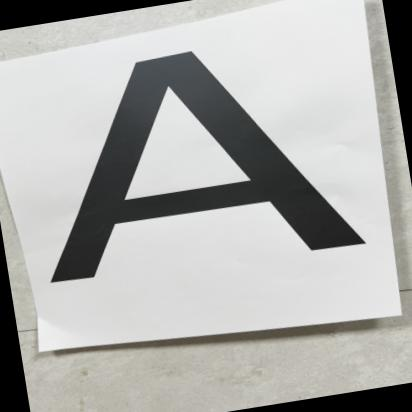seat: (0, 4, 410, 321)
